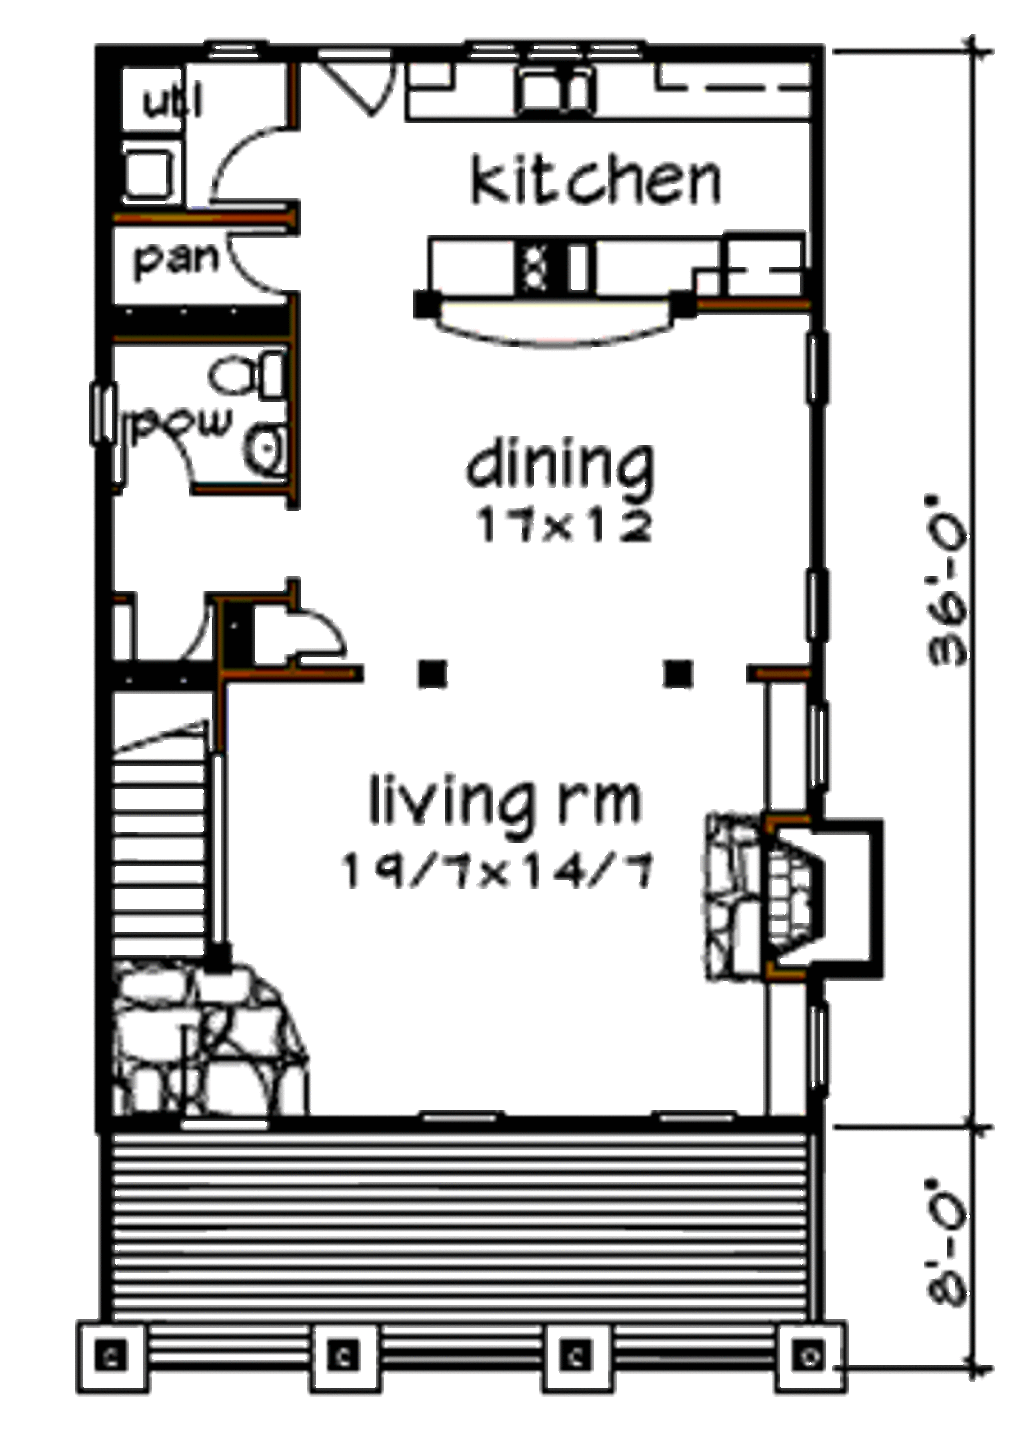door: (209, 117, 315, 209), (119, 406, 201, 495), (124, 580, 209, 664), (324, 47, 399, 124), (226, 224, 299, 304), (284, 597, 355, 666)
kitchen_bar: (419, 215, 810, 354)
large_sink: (199, 331, 306, 406)
small_sink: (239, 417, 306, 491)
stairs: (101, 677, 246, 953)
twin_sink: (501, 53, 608, 135)
window: (803, 991, 844, 1093), (793, 332, 841, 413), (799, 693, 837, 793), (795, 573, 839, 644)
